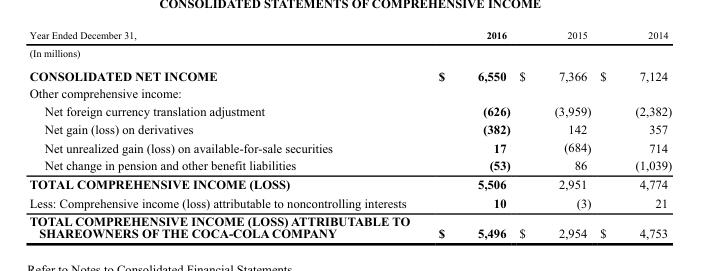table: (28, 29, 671, 240)
table column: (28, 29, 423, 240), (423, 29, 514, 240), (514, 29, 594, 240), (594, 29, 671, 240)
table column header: (28, 29, 671, 43)
table projected row header: (28, 43, 671, 63), (28, 84, 671, 101)
table row: (28, 211, 671, 240), (28, 63, 671, 84), (28, 43, 671, 63), (28, 137, 671, 156), (28, 174, 671, 193), (28, 101, 671, 119), (28, 119, 671, 137), (28, 156, 671, 174), (28, 193, 671, 211), (28, 84, 671, 101), (28, 29, 671, 43)
